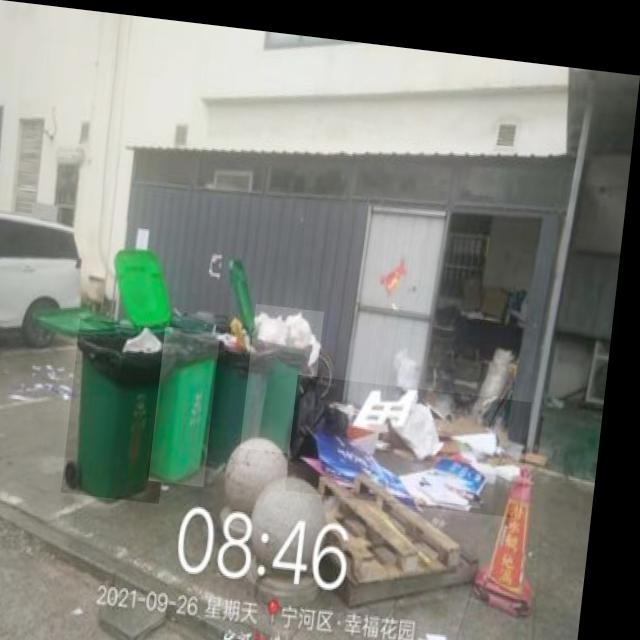garbage: (295, 366, 540, 504)
garbage_bin: (159, 322, 227, 481)
overflow: (72, 316, 185, 499), (250, 297, 330, 447), (212, 323, 282, 460)
